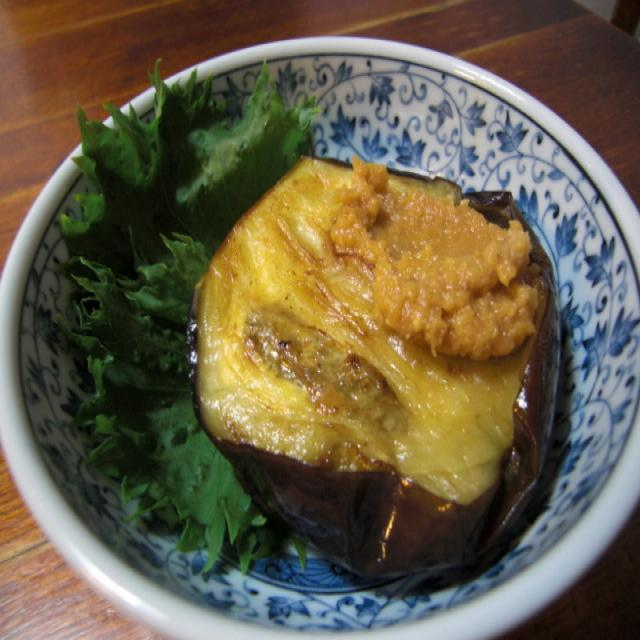鸡蛋料理: (180, 139, 584, 609)
